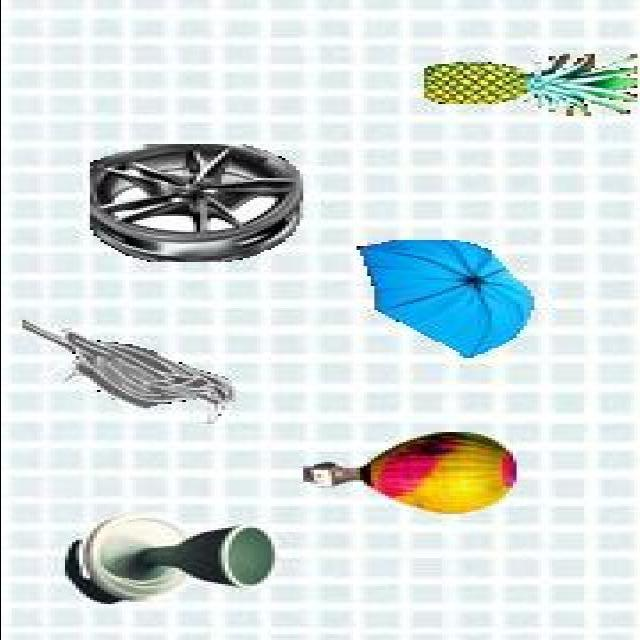Other Objects: (18, 319, 235, 425), (65, 516, 276, 604), (303, 432, 518, 516)
